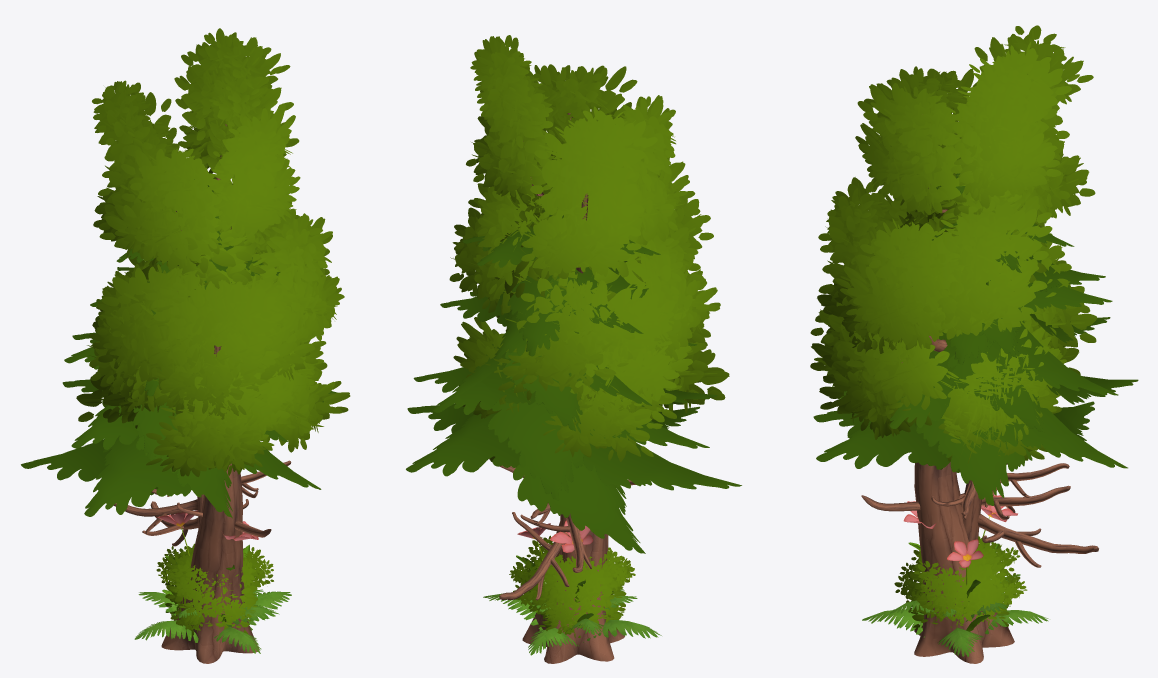
Rendered from nature-library.glb.
The picture shows the model from 3 angles, left to right: view 1: azimuth 30°, elevation 25°; view 2: azimuth 150°, elevation 25°; view 3: azimuth 270°, elevation 25°; orthographic projection. The views are drawn at different scales.
Parts seen in each view (by area): view 1: CommonTree_3, CommonTree_1, Pine_1, Bush_Common, Fern_1, Flower_3_Group; view 2: CommonTree_3, Pine_1, CommonTree_1, Bush_Common, Fern_1, Flower_3_Group; view 3: CommonTree_3, CommonTree_1, Pine_1, Bush_Common, Fern_1, Flower_3_Group.
Part boxes in pixels (x1,y1,x2,y2): CommonTree_3: (92, 28, 344, 663); CommonTree_1: (76, 176, 350, 654); Pine_1: (21, 179, 337, 546); Bush_Common: (156, 543, 273, 637); Fern_1: (134, 589, 291, 653); Flower_3_Group: (156, 510, 258, 621); CommonTree_3: (453, 35, 713, 663); Pine_1: (406, 203, 741, 600); CommonTree_1: (449, 183, 729, 657); Bush_Common: (509, 535, 635, 641); Fern_1: (483, 586, 661, 655); Flower_3_Group: (516, 520, 613, 628); CommonTree_3: (815, 25, 1095, 663); CommonTree_1: (810, 159, 1097, 656); Pine_1: (813, 173, 1138, 567); Bush_Common: (894, 536, 1027, 629); Fern_1: (862, 574, 1048, 656); Flower_3_Group: (903, 495, 1017, 631).
Size of the model in its own units: 4.94 by 9.43 by 4.83.
Materials: 6 (5 with a texture image).
